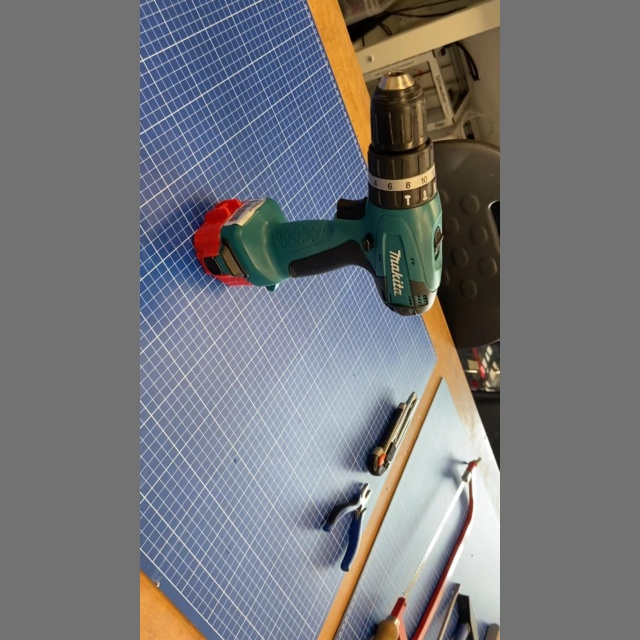drill: (188, 68, 448, 319)
